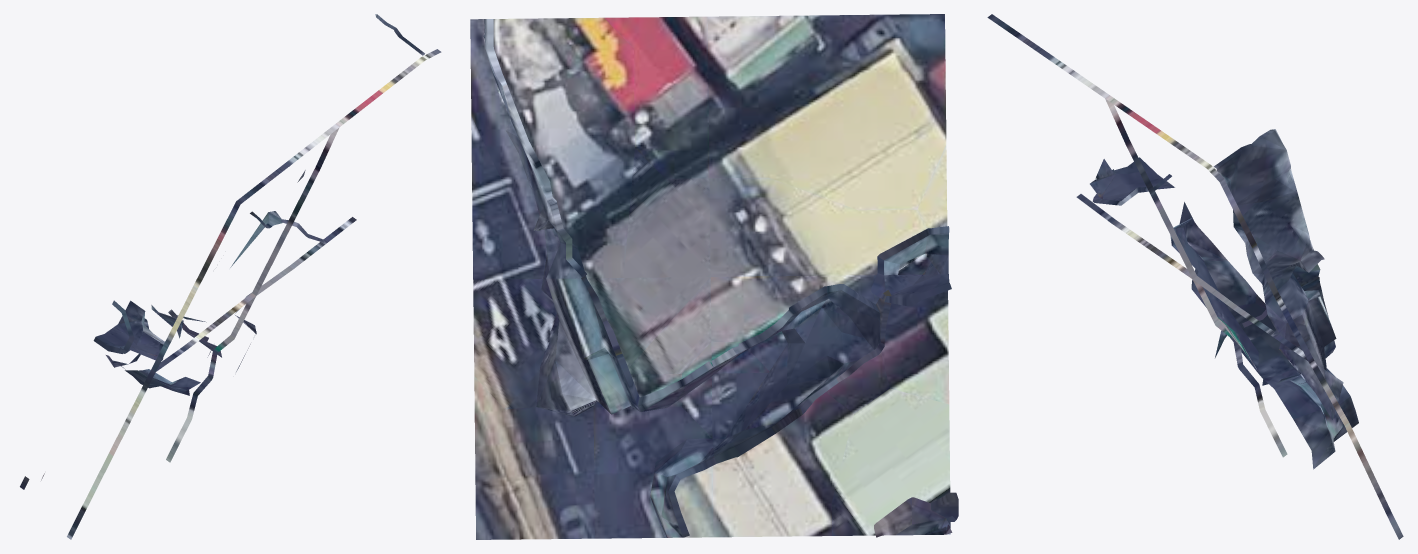
3 views of the same model, side by side, from view 1: azimuth 30°, elevation 25°; view 2: azimuth 150°, elevation 25°; view 3: azimuth 270°, elevation 25° (orthographic). The views are drawn at different scales.
Size of the model in its own units: 41.06 by 37.15 by 32.08.
Materials: 1 (1 with a texture image).
